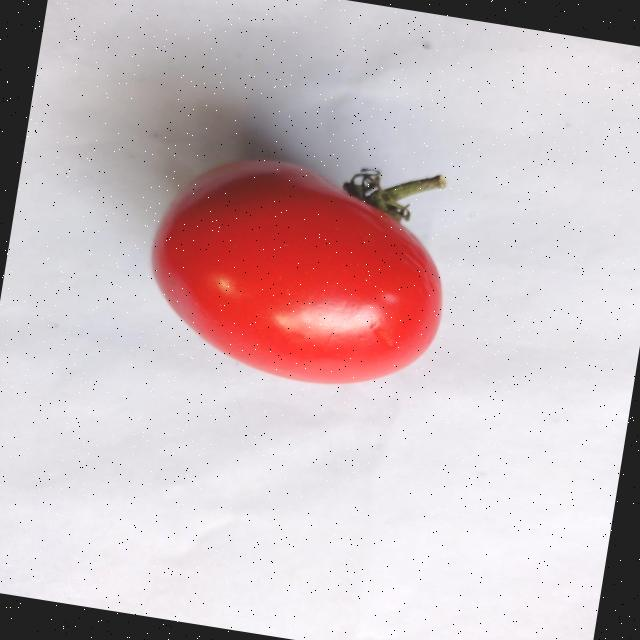Tomato: (132, 140, 466, 404)
